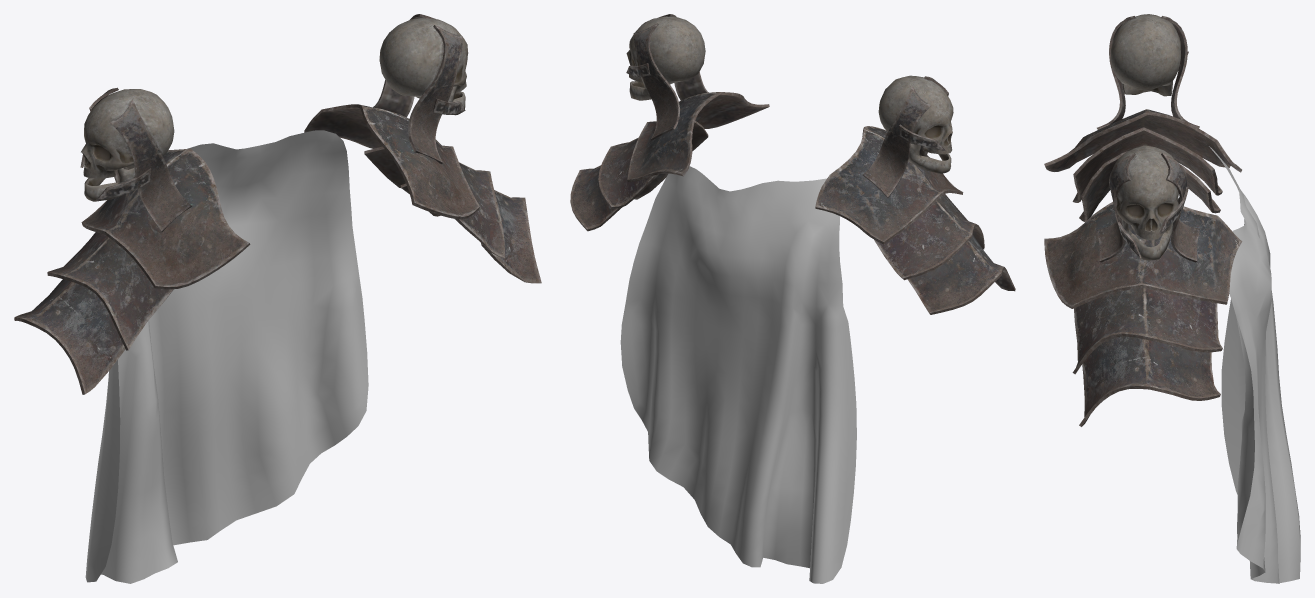
File: sk_dg_uruk_pauldron_elite_cape_c.fbx
3 renders of one model, left to right at view 1: azimuth 30°, elevation 25°; view 2: azimuth 150°, elevation 25°; view 3: azimuth 270°, elevation 25°, orthographic. The views are drawn at different scales.
Parts seen in each view (by area): view 1: sk_dg_uruk_pauldron_elite_cape_c.cape, sk_dg_uruk_pauldron_elite_cape_c; view 2: sk_dg_uruk_pauldron_elite_cape_c.cape, sk_dg_uruk_pauldron_elite_cape_c; view 3: sk_dg_uruk_pauldron_elite_cape_c, sk_dg_uruk_pauldron_elite_cape_c.cape.
Boxes of the visible parts, <box> form: sk_dg_uruk_pauldron_elite_cape_c.cape: <box>85,130,368,583</box>; sk_dg_uruk_pauldron_elite_cape_c: <box>14,14,541,394</box>; sk_dg_uruk_pauldron_elite_cape_c.cape: <box>620,166,856,583</box>; sk_dg_uruk_pauldron_elite_cape_c: <box>570,14,1015,314</box>; sk_dg_uruk_pauldron_elite_cape_c: <box>1044,14,1242,426</box>; sk_dg_uruk_pauldron_elite_cape_c.cape: <box>1209,146,1300,583</box>.
Size of the model in its own units: 0.8427 by 0.4025 by 0.8869.
